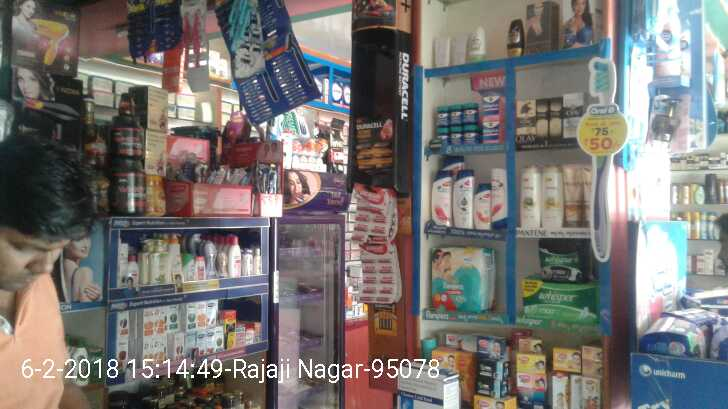beauty: (563, 163, 593, 229), (518, 161, 540, 230), (539, 162, 561, 228), (427, 169, 452, 227), (452, 171, 474, 232), (491, 165, 508, 232), (471, 182, 490, 232), (563, 92, 581, 140), (515, 99, 535, 140), (547, 99, 561, 141), (535, 97, 548, 139)
pharmacy: (429, 244, 490, 314), (520, 277, 593, 324), (537, 241, 584, 276), (480, 120, 499, 147), (481, 94, 500, 119), (431, 105, 448, 129), (443, 104, 461, 126), (463, 124, 479, 144), (434, 129, 450, 145), (462, 102, 475, 121), (451, 128, 463, 147)
